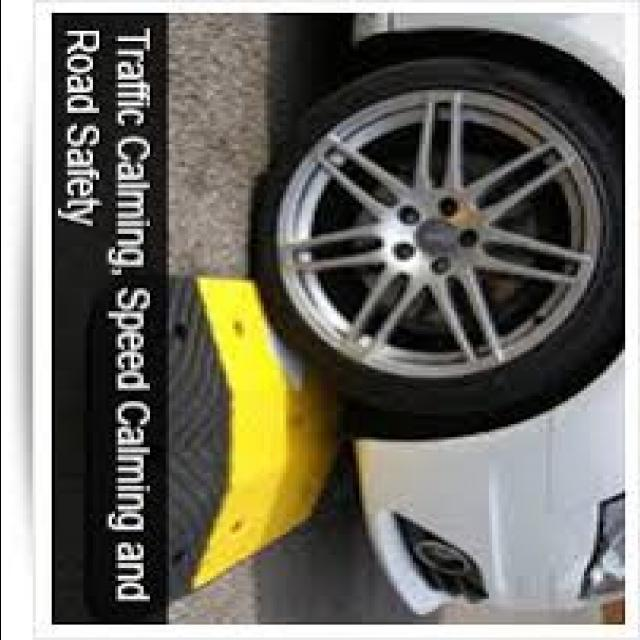speedbreaker: (162, 280, 324, 598)
